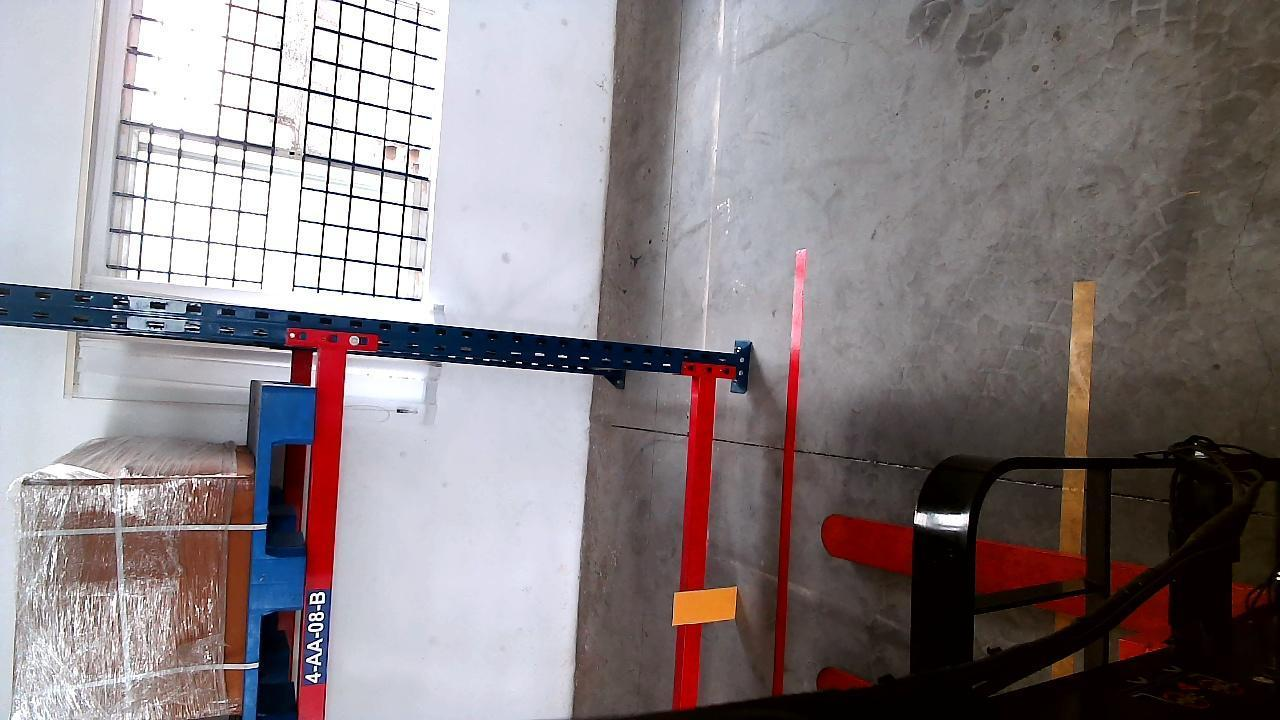h_rack: (300, 347, 348, 720), (680, 364, 714, 703)
orange_strip: (675, 587, 737, 625)
red_line: (774, 248, 802, 705)
small_pallet: (243, 383, 313, 720)
yellow_line: (1062, 269, 1092, 583)
